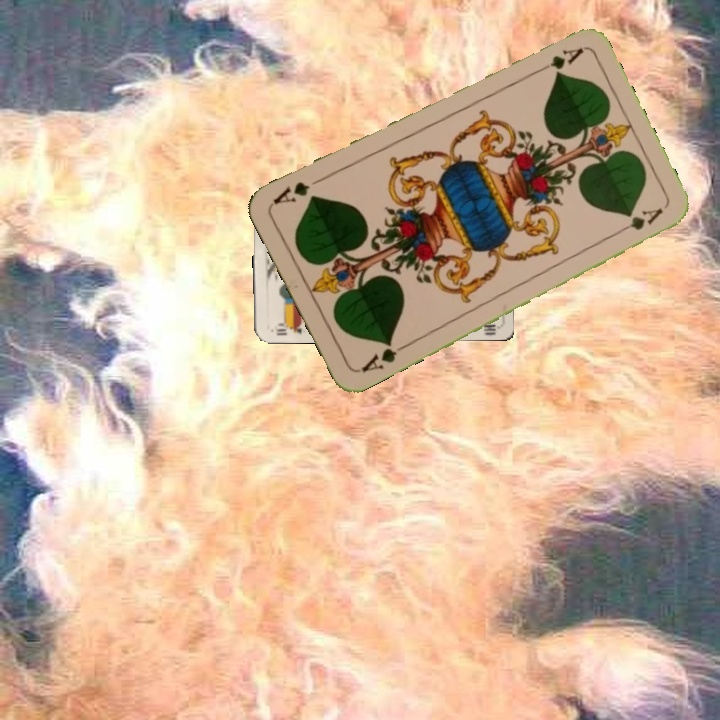E10: (272, 319, 304, 338)
GA: (357, 337, 410, 375), (529, 43, 586, 77)
